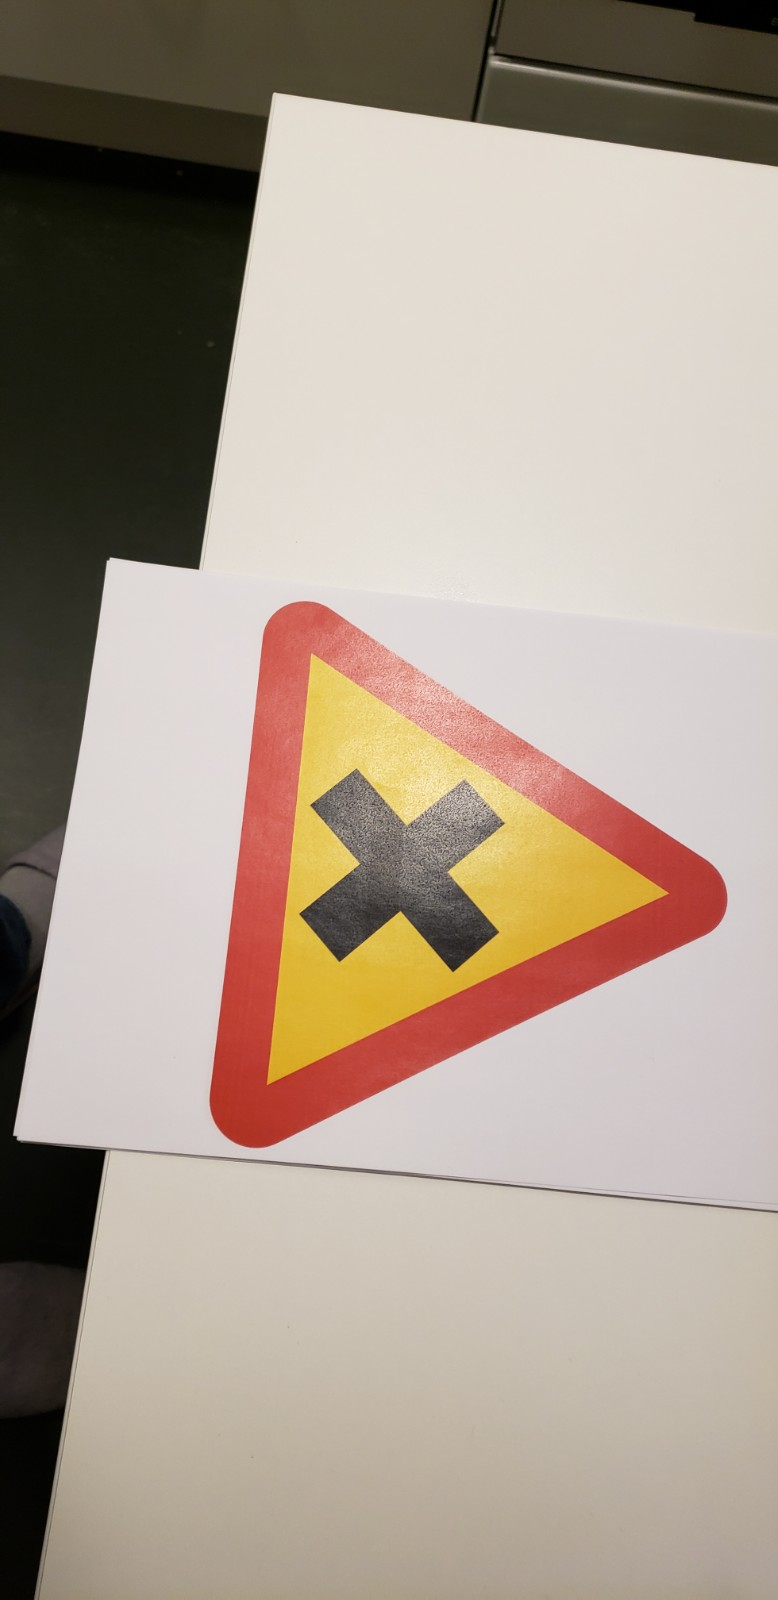junction: (208, 562, 707, 1189)
